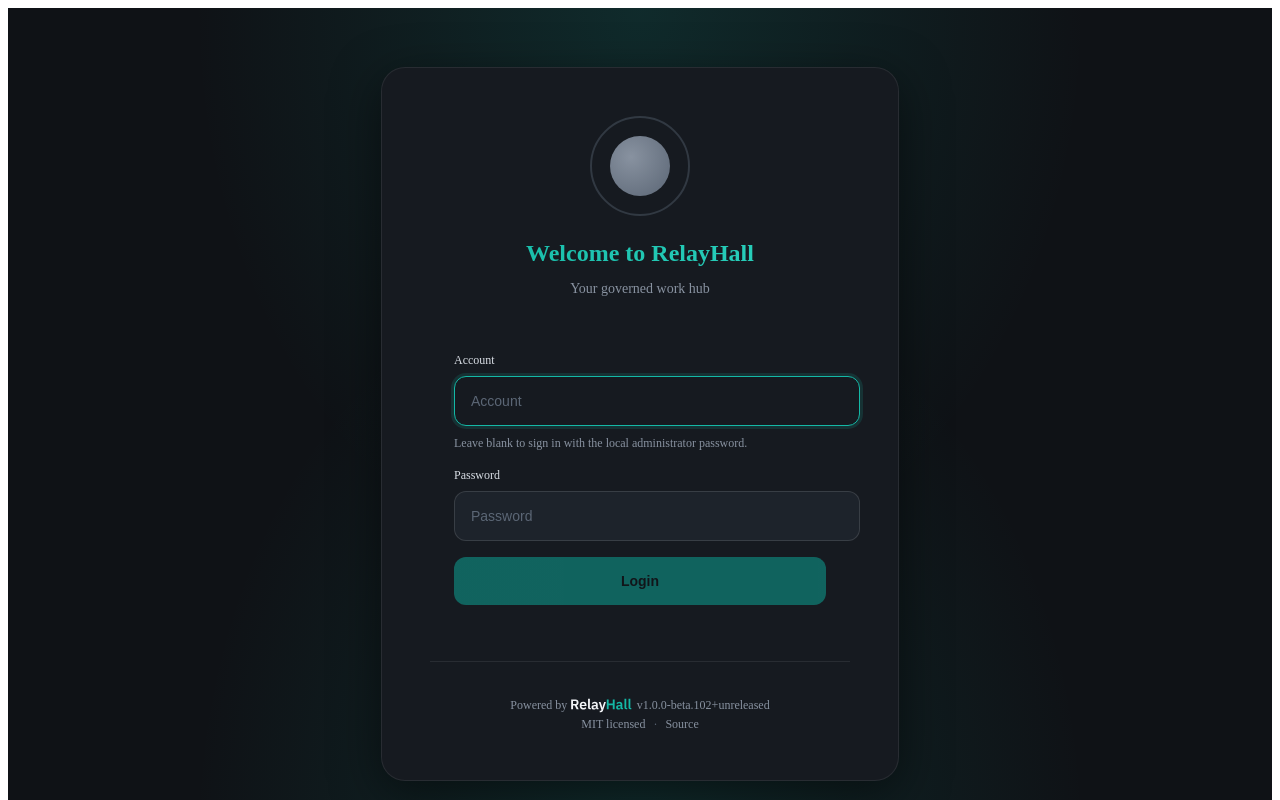
Test: which door a submission takes › a refusal is shown and the password is cleared, whichever door refused
In the field labelled "Account": coordinates (657, 401) [454,376,860,426], type "ada"
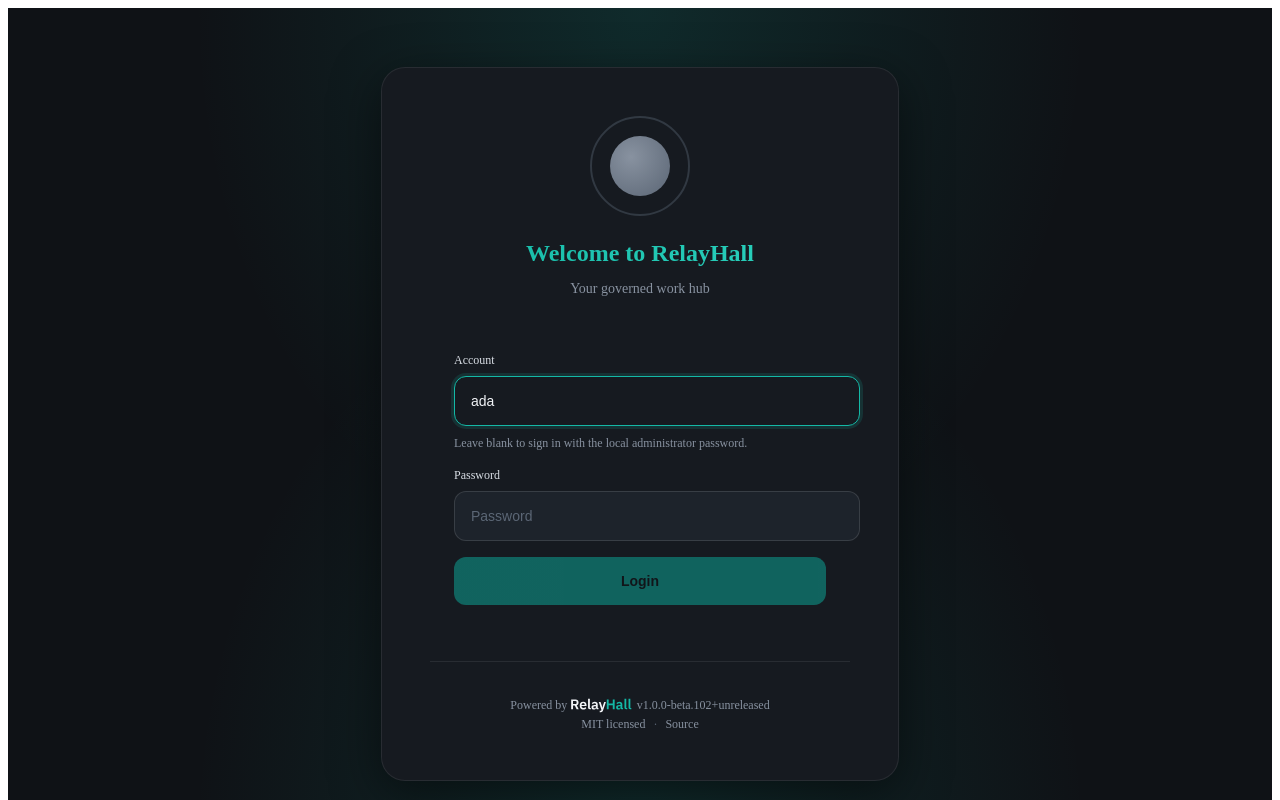
In the password field labelled "Password": coordinates (657, 516) [454,491,860,541], type "wrong"
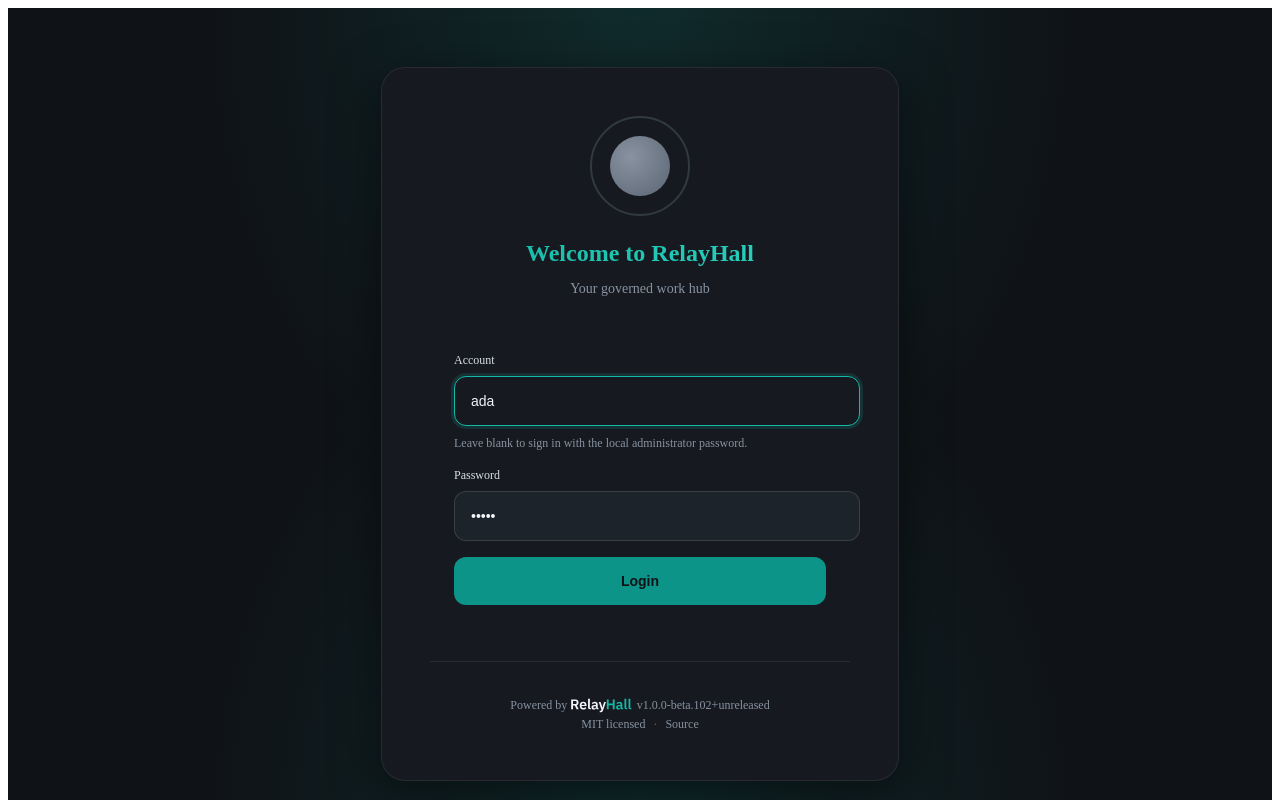
Click the button "Login": coordinates (640, 581) [454,557,826,605]
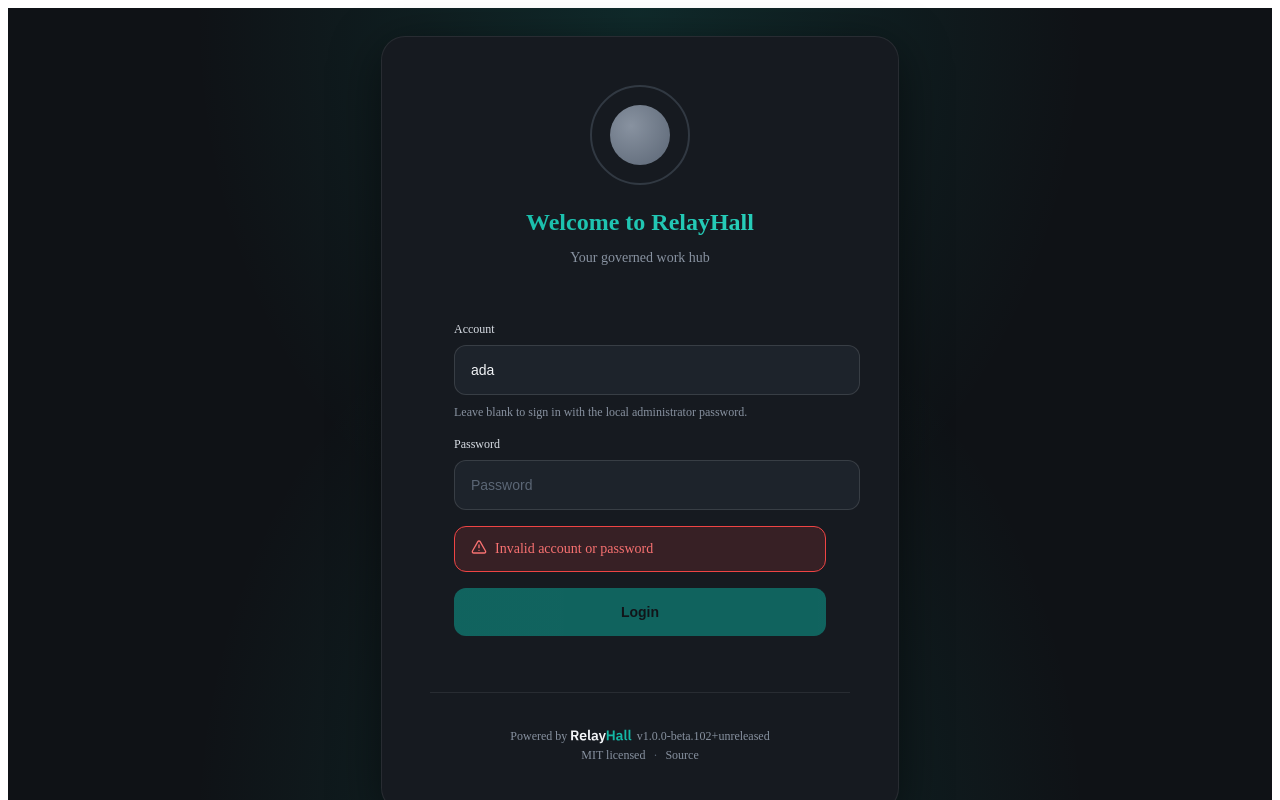
expect the text "Invalid account or password" is shown: met, box [495,541,653,557]
expect the password field labelled "Password" is empty: met, box [454,460,860,510]
